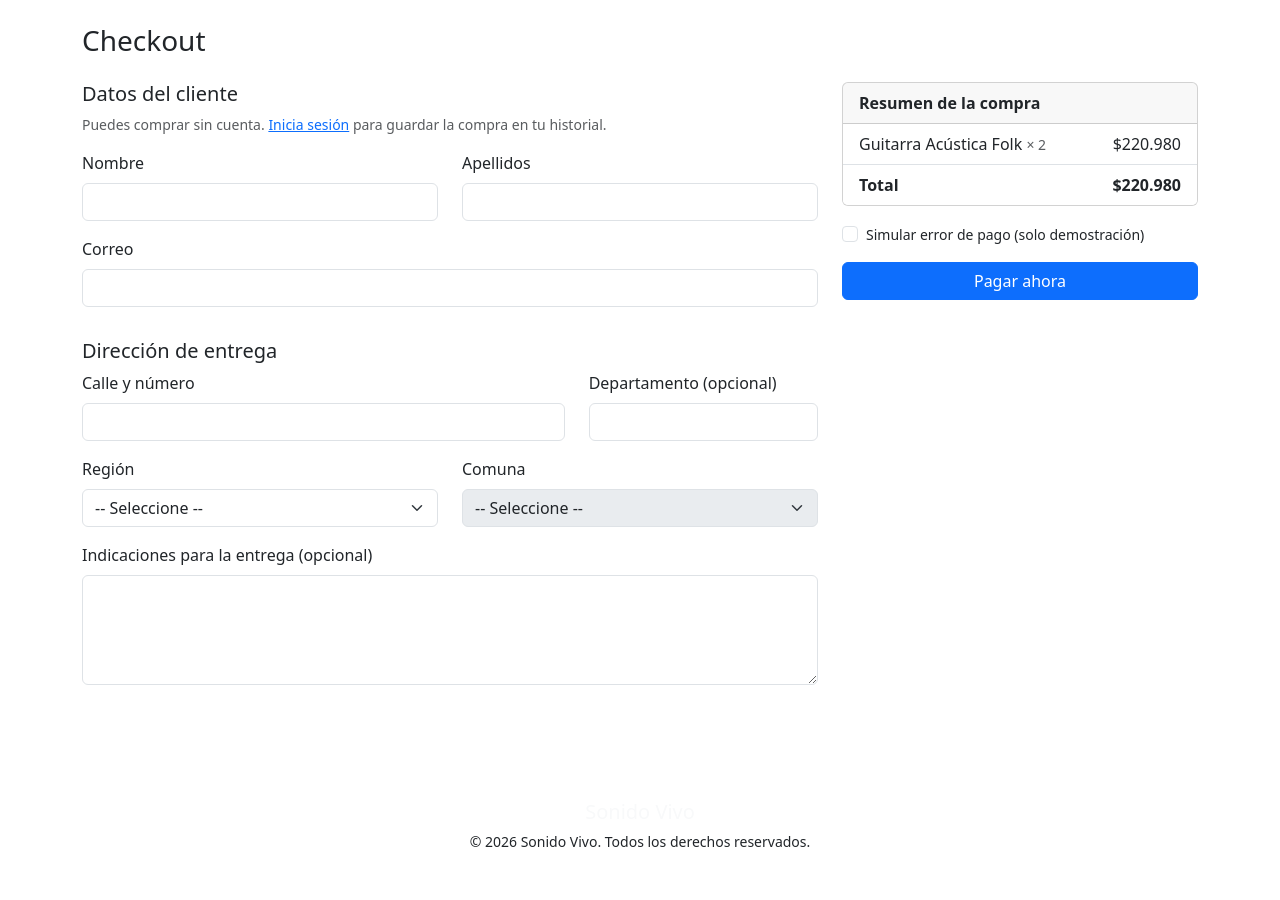
Flujo de pago (POST /boletas) › se puede comprar SIN iniciar sesión: la boleta queda sin usuario
Expected: the text "Puedes comprar sin cuenta" is shown, x1=82 y1=115 x2=268 y2=134
Type "Ana" into the field labelled "Nombre". click: (260, 202)
box: x1=82 y1=183 x2=438 y2=221
Type "Soto" into the field labelled "Apellidos". click: (640, 202)
box: x1=462 y1=183 x2=818 y2=221
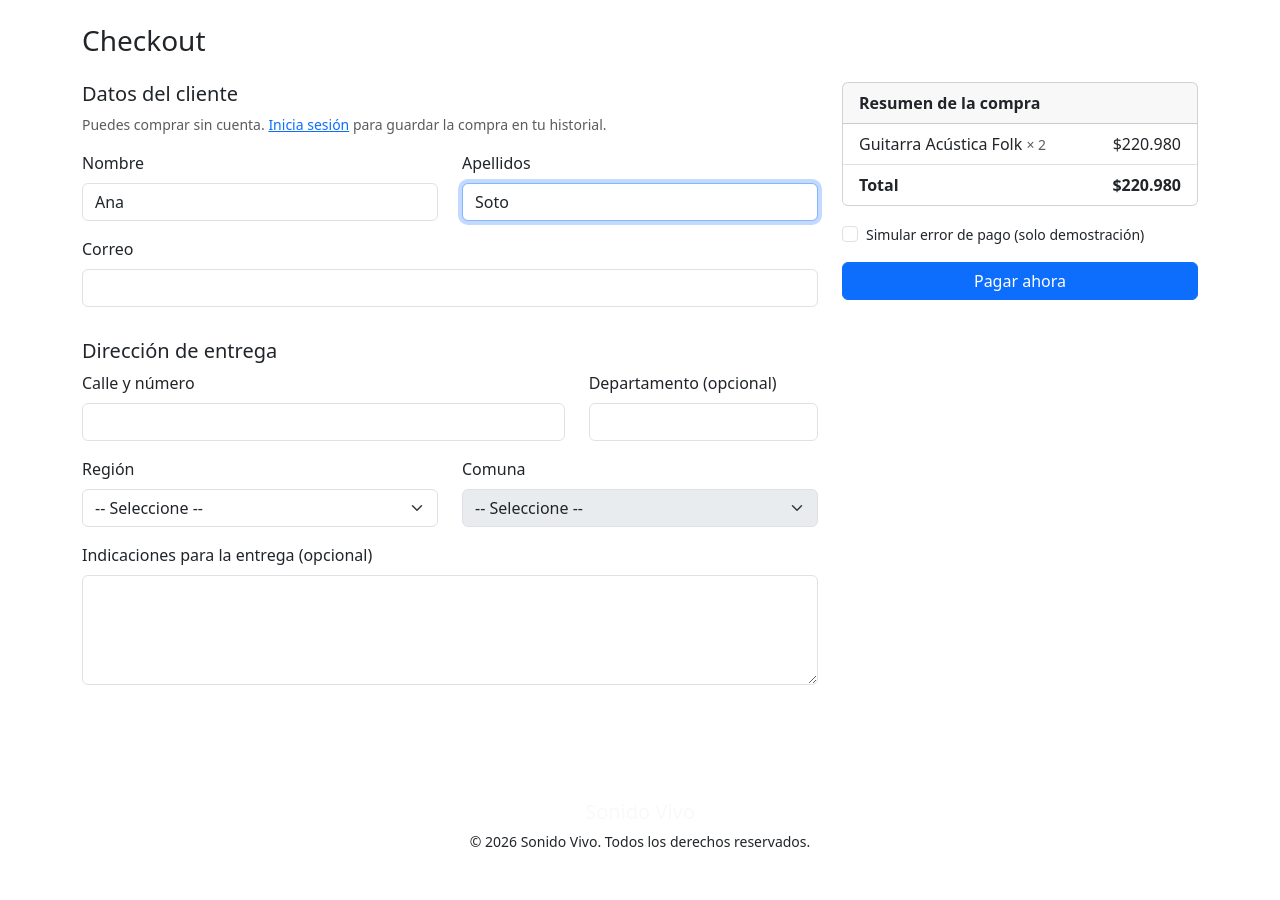
Type "ana@gmail.com" into the field labelled "Correo". click: (450, 288)
box: x1=82 y1=269 x2=818 y2=307
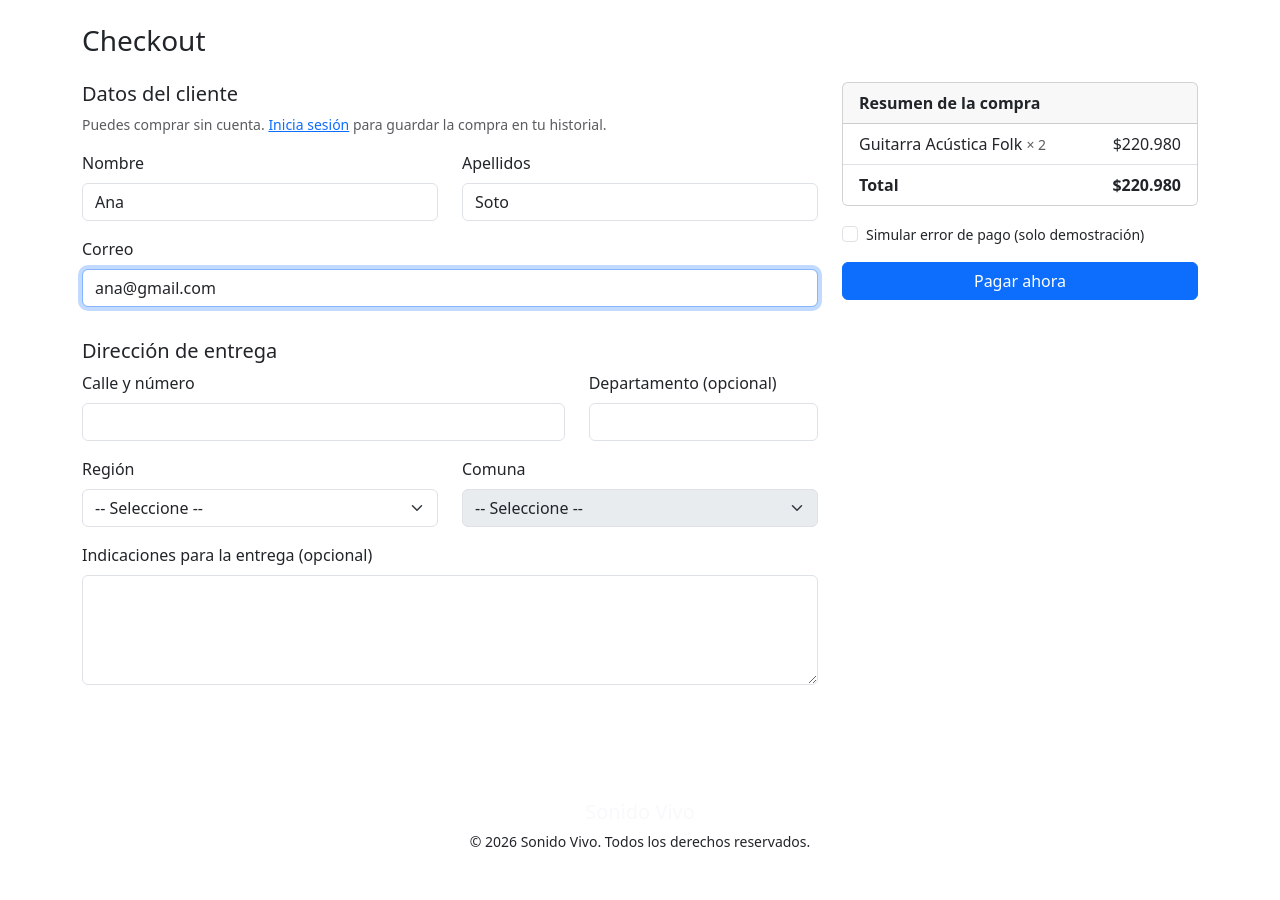
Type "Calle 1" into the field labelled "Calle y número". click: (323, 422)
box: x1=82 y1=403 x2=565 y2=441
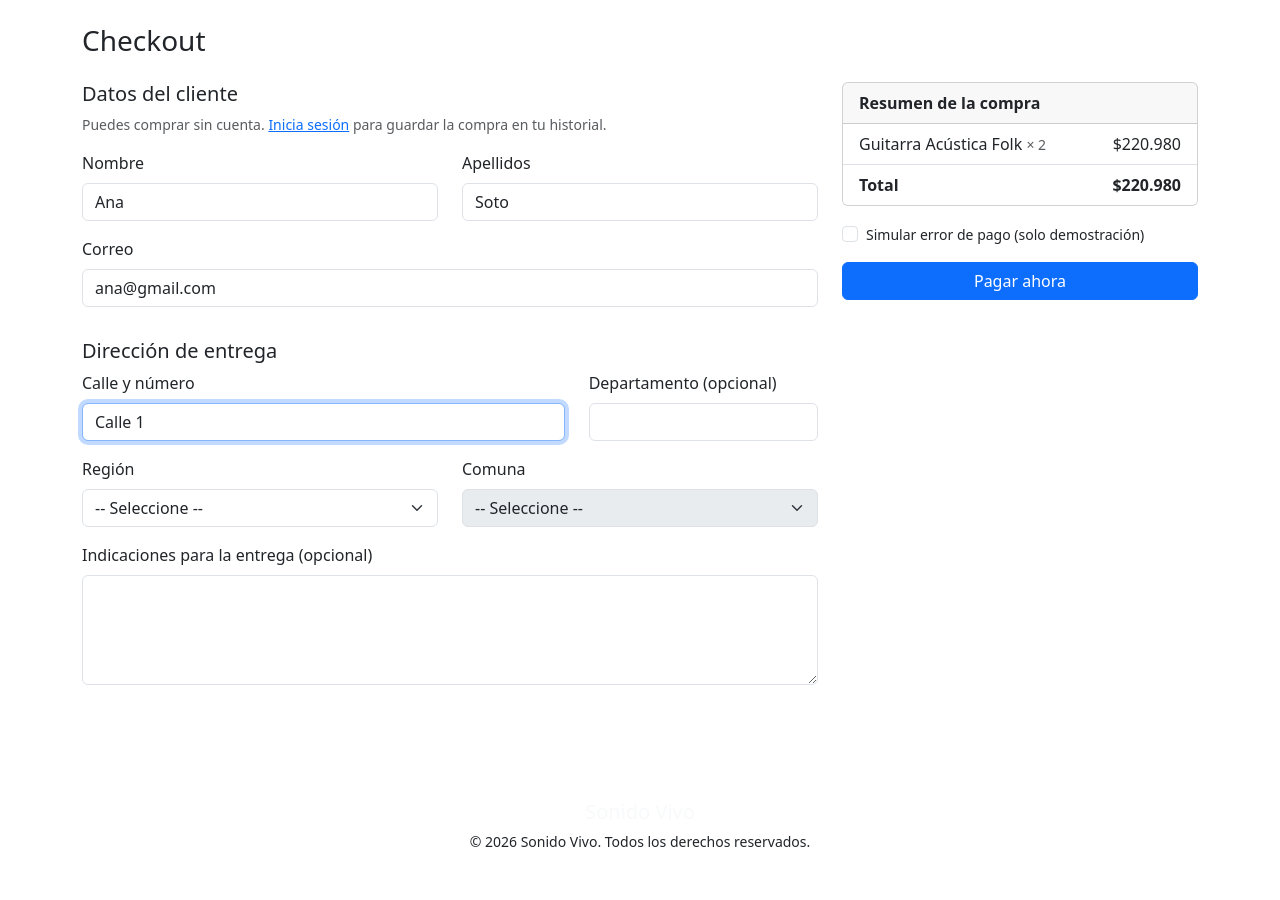
Select "Región de Valparaíso" in the dropdown labelled "Región". click: (260, 508)
box: x1=82 y1=489 x2=438 y2=527
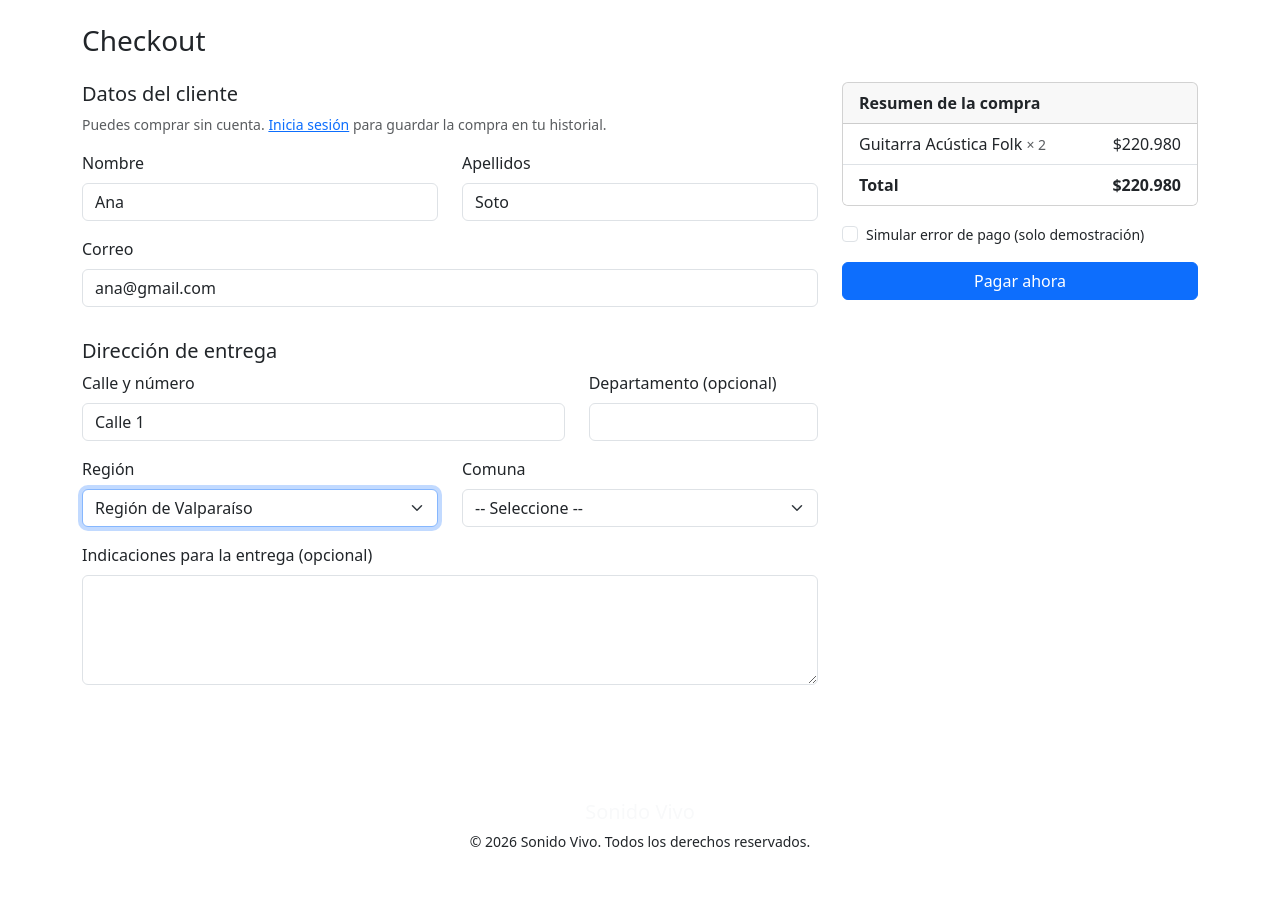
Select "Quilpué" in the dropdown labelled "Comuna". click: (640, 508)
box: x1=462 y1=489 x2=818 y2=527
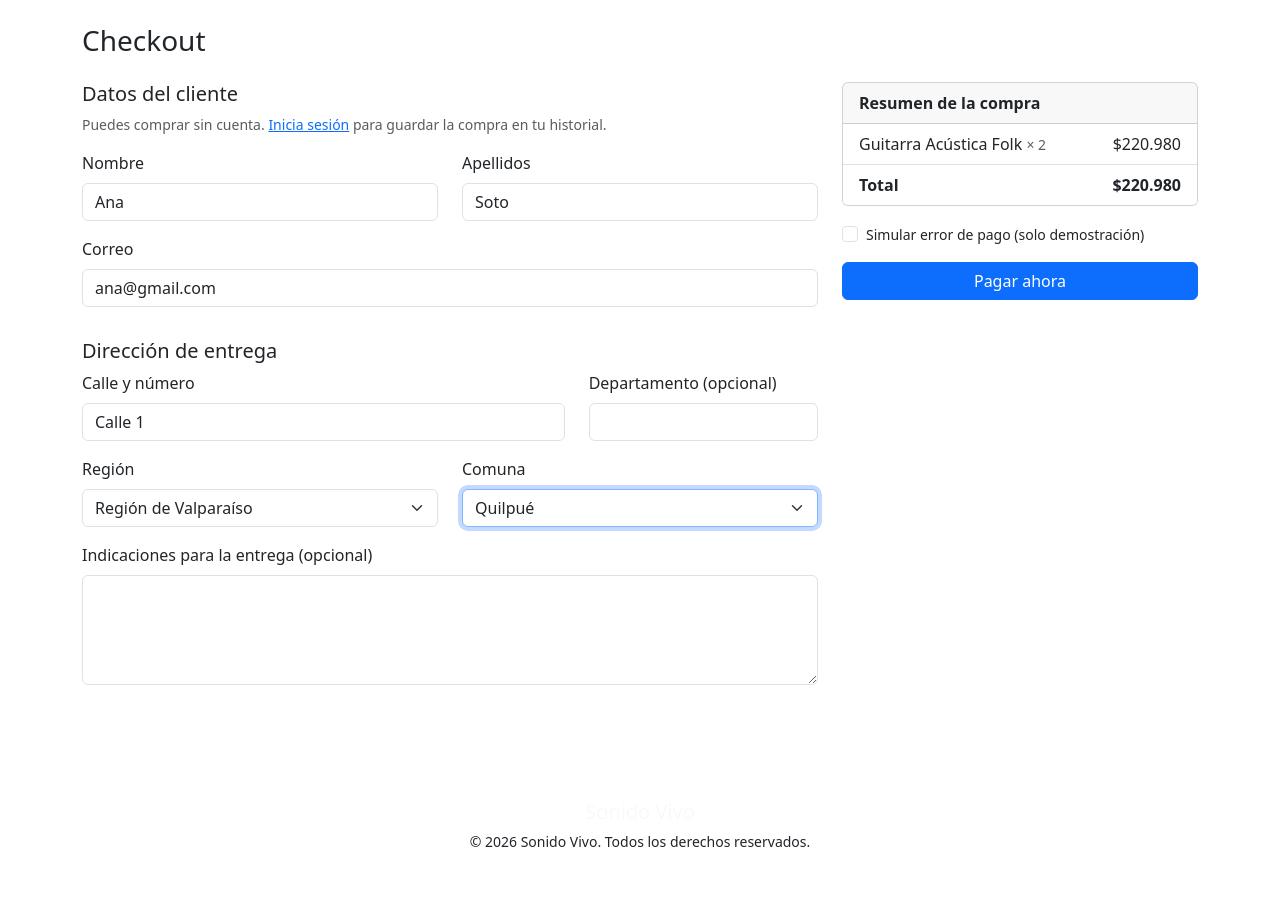
Click the button "Pagar ahora". click: (1020, 281)
box: x1=842 y1=262 x2=1198 y2=300
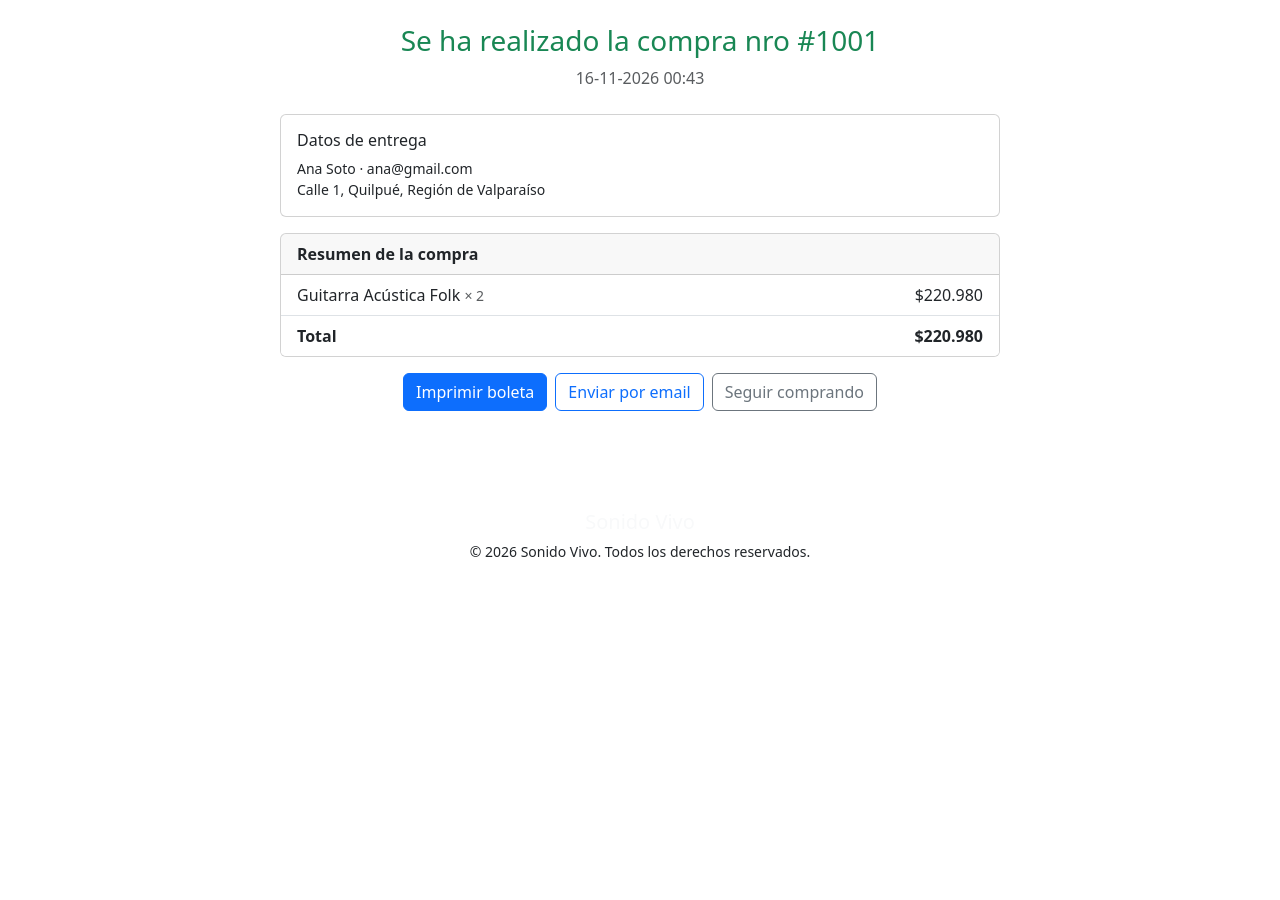
Now the heading "Se ha realizado la compra nro #1001" is shown, box x1=401 y1=21 x2=879 y2=59
